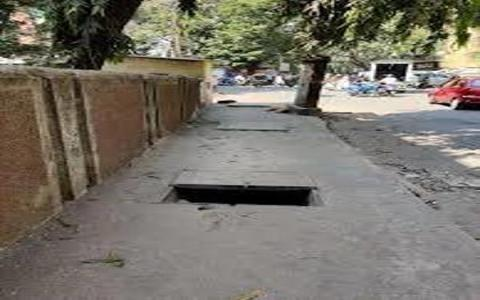open manhole: (157, 177, 328, 224)
